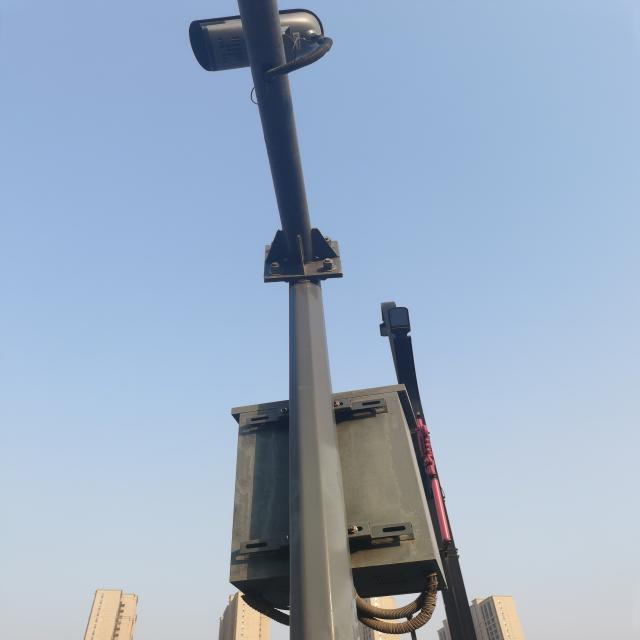blur bolt: (330, 400, 341, 407), (279, 407, 289, 414)
bolt nut: (268, 262, 284, 270), (348, 525, 359, 534), (322, 258, 334, 266)
